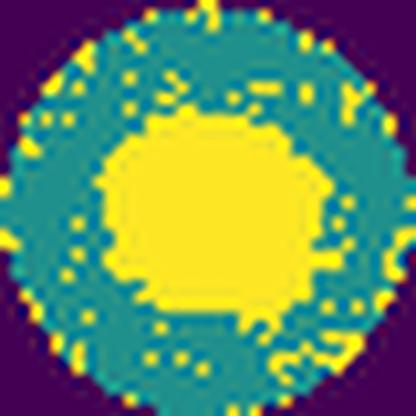Center: (94, 106, 344, 342)
